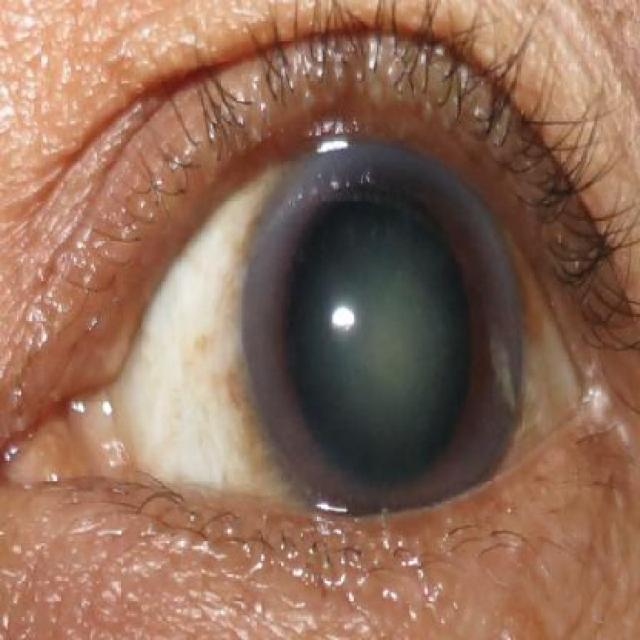Cataract: (241, 135, 534, 535)
